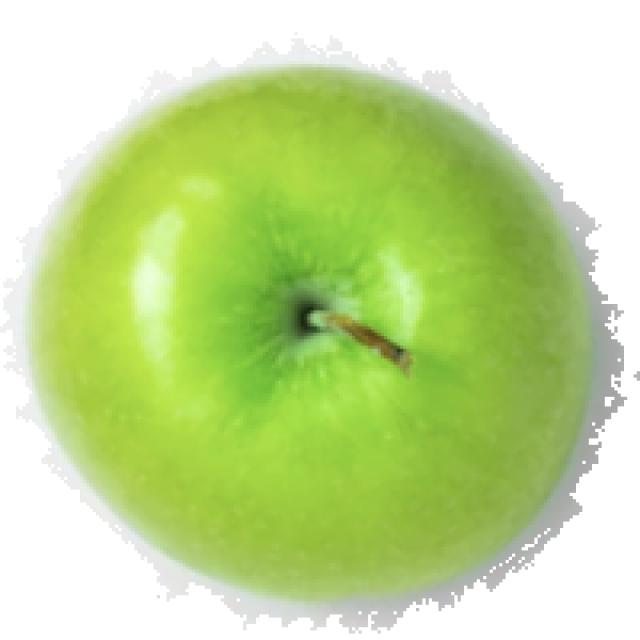apple: (0, 29, 627, 634)
